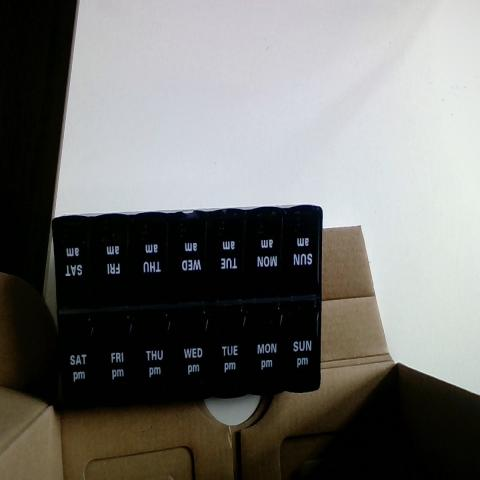FRI-am: (95, 216, 130, 304)
FRI-pm: (95, 313, 130, 398)
MON-am: (246, 210, 280, 302)
MON-pm: (242, 304, 284, 391)
SAT-am: (54, 219, 95, 308)
SAT-pm: (61, 309, 97, 400)
SUN-am: (283, 200, 317, 298)
SUN-pm: (280, 300, 316, 384)
THU-am: (209, 214, 243, 306), (134, 210, 165, 299)
THU-pm: (137, 306, 172, 402)
TUE-pm: (206, 310, 242, 393)
WED-am: (168, 215, 205, 303)
WED-pm: (173, 304, 208, 396)
